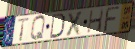D: (49, 13, 65, 40)
F: (102, 5, 121, 34)
H: (86, 8, 105, 35)
Q: (30, 14, 47, 42)
T: (16, 17, 31, 43)
X: (64, 10, 85, 38)
